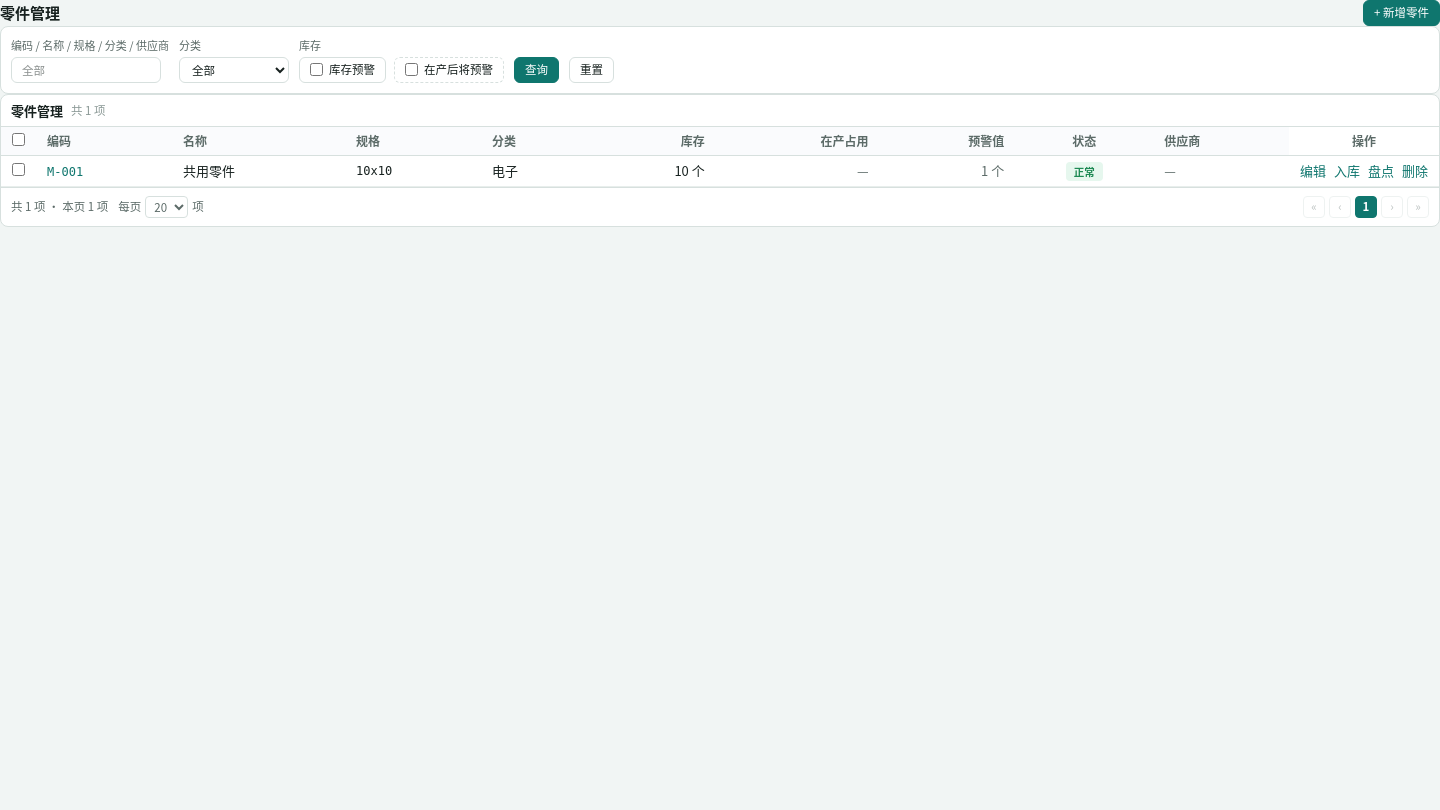
it: does not treat an ordinary failure as a BOM reference
The image size is (1440, 810).
Click the button "删除" at x=1415, y=171, box [1402, 161, 1428, 181]
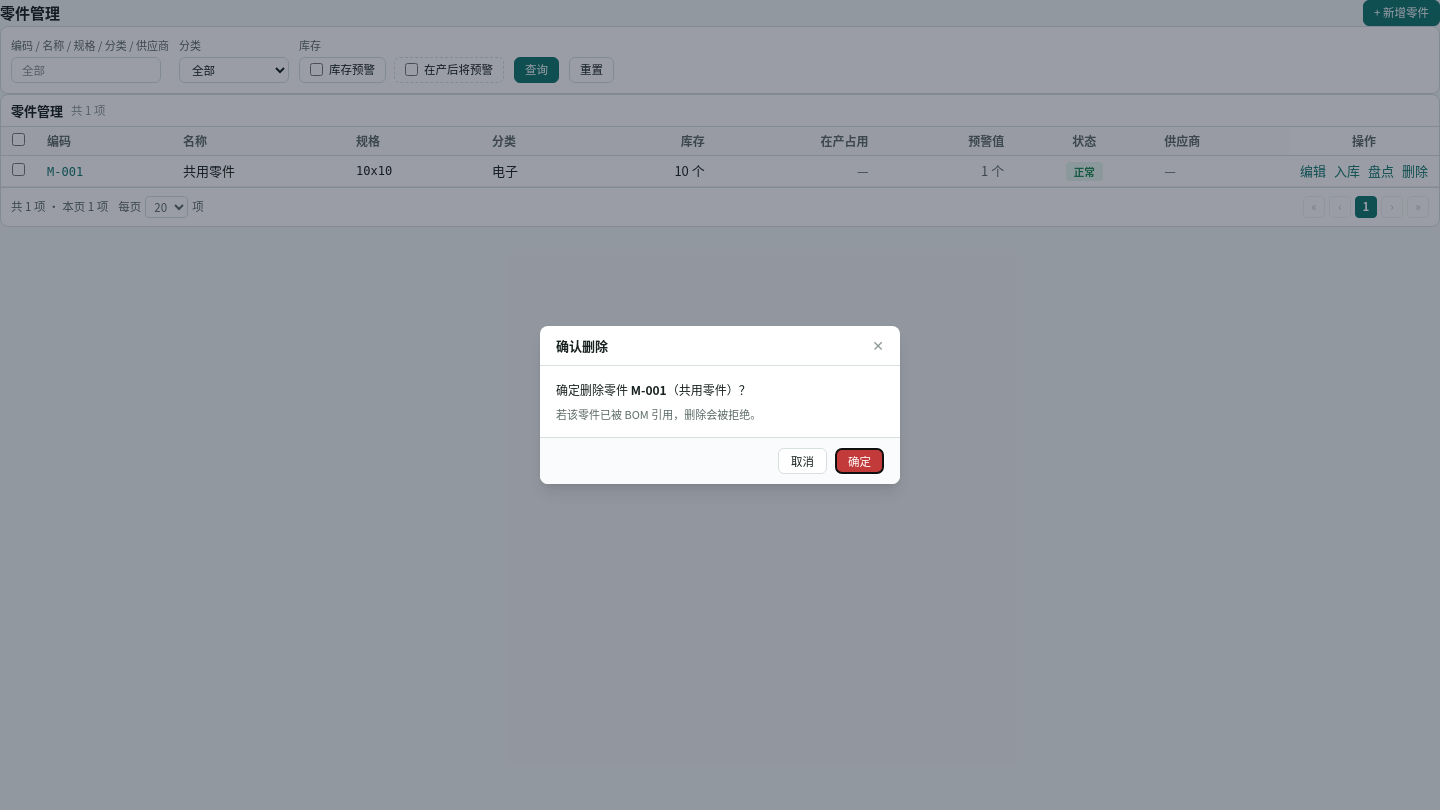
Click the button "确定" at x=860, y=461, box [835, 448, 884, 474]
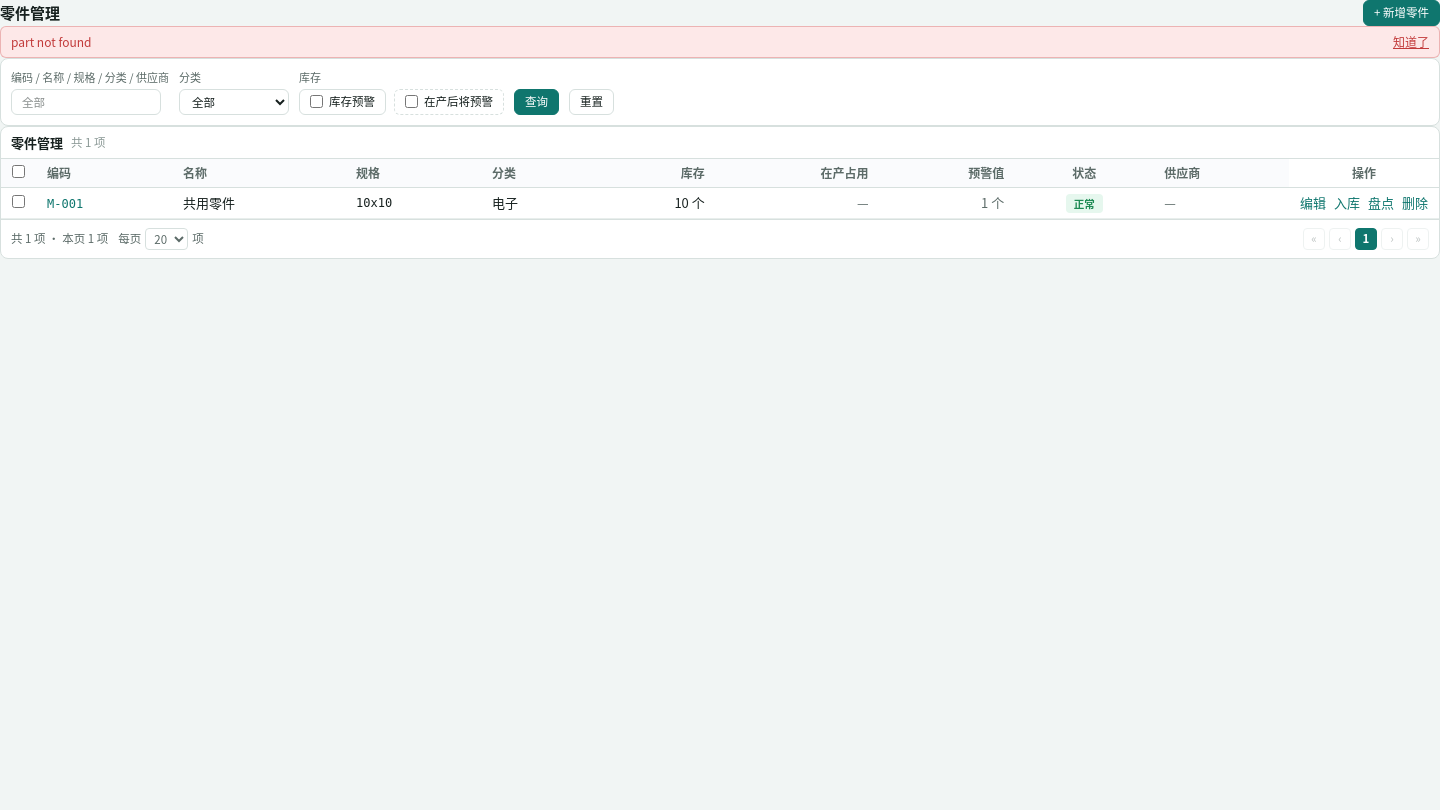
Now the text "part not found" is shown, box [11, 33, 92, 51]
